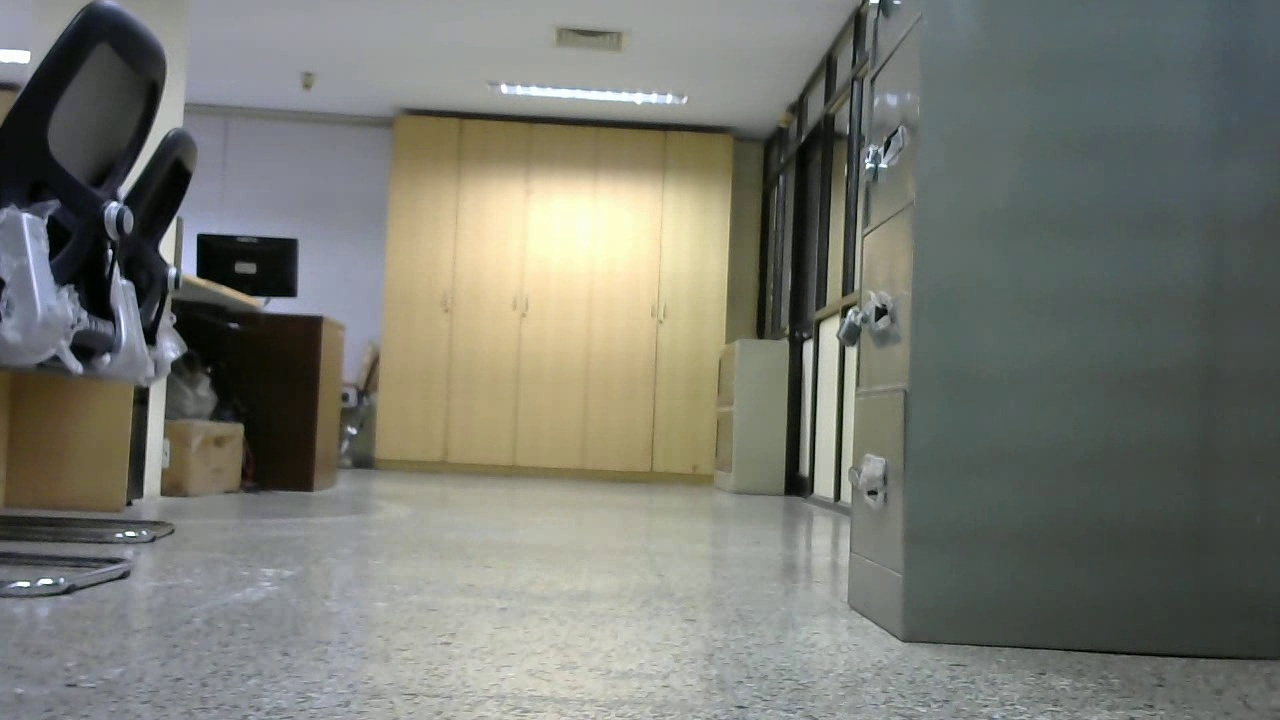chair: (1, 1, 172, 604)
